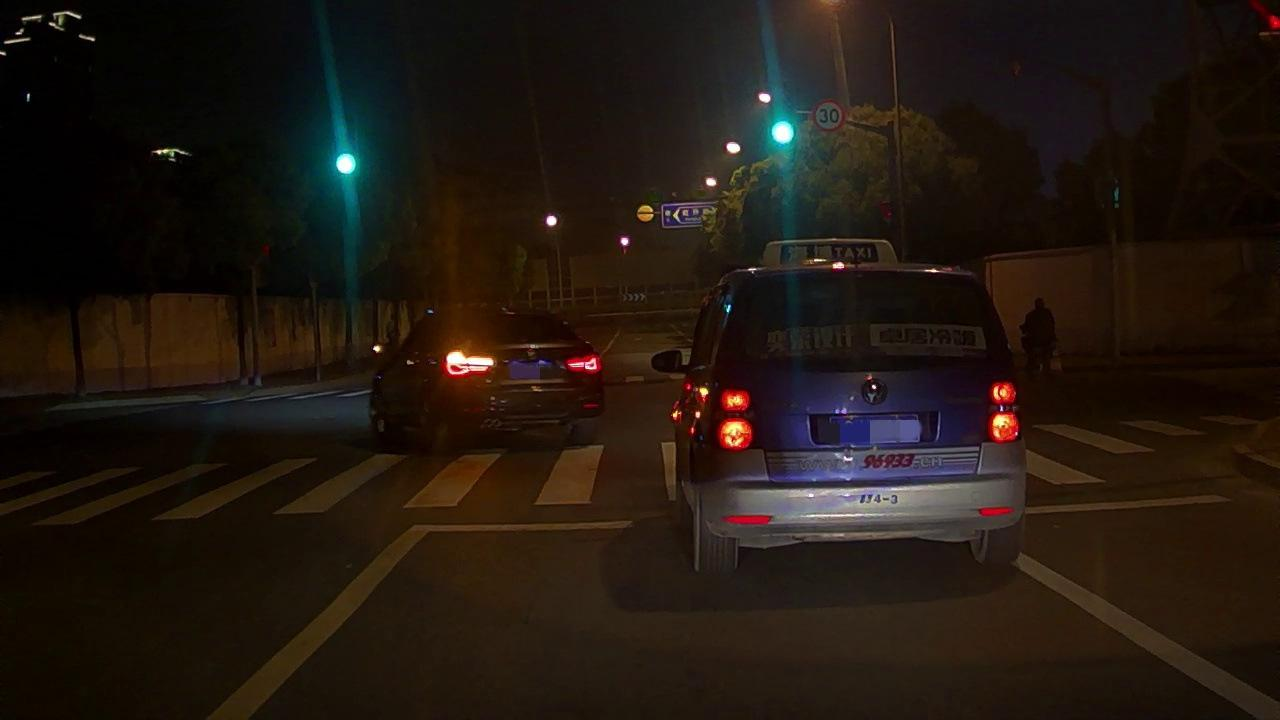traffic_light: (336, 118, 355, 176), (770, 120, 795, 144)
